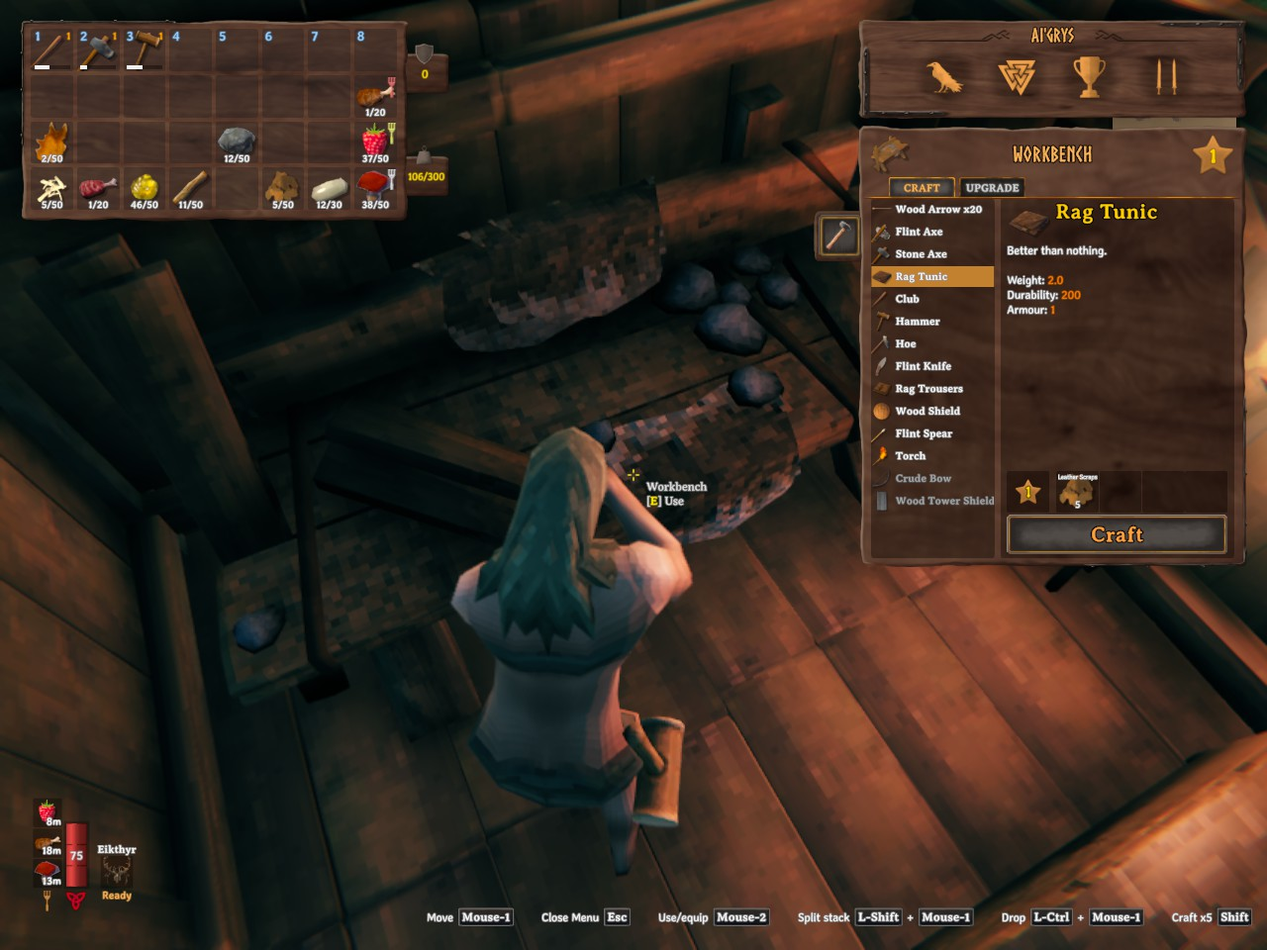Craft Button: (1008, 516, 1224, 555)
Crafting Menu: (862, 132, 1245, 558)
Food Indicator: (36, 797, 63, 891)
Health Bar: (63, 820, 90, 891)
Hotbar: (25, 21, 398, 78)
Inventory: (22, 19, 405, 219)
Repair Button: (817, 212, 864, 257)
Workbench: (84, 92, 854, 729)
